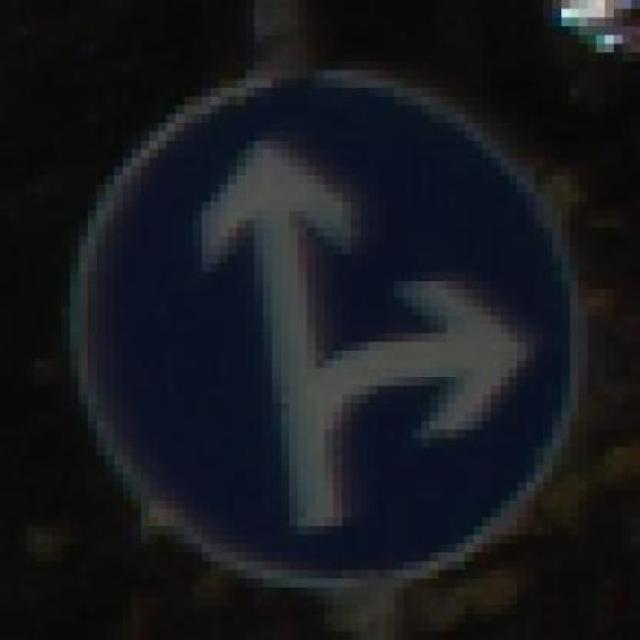Go Straight or Turn Right: (79, 70, 578, 579)
